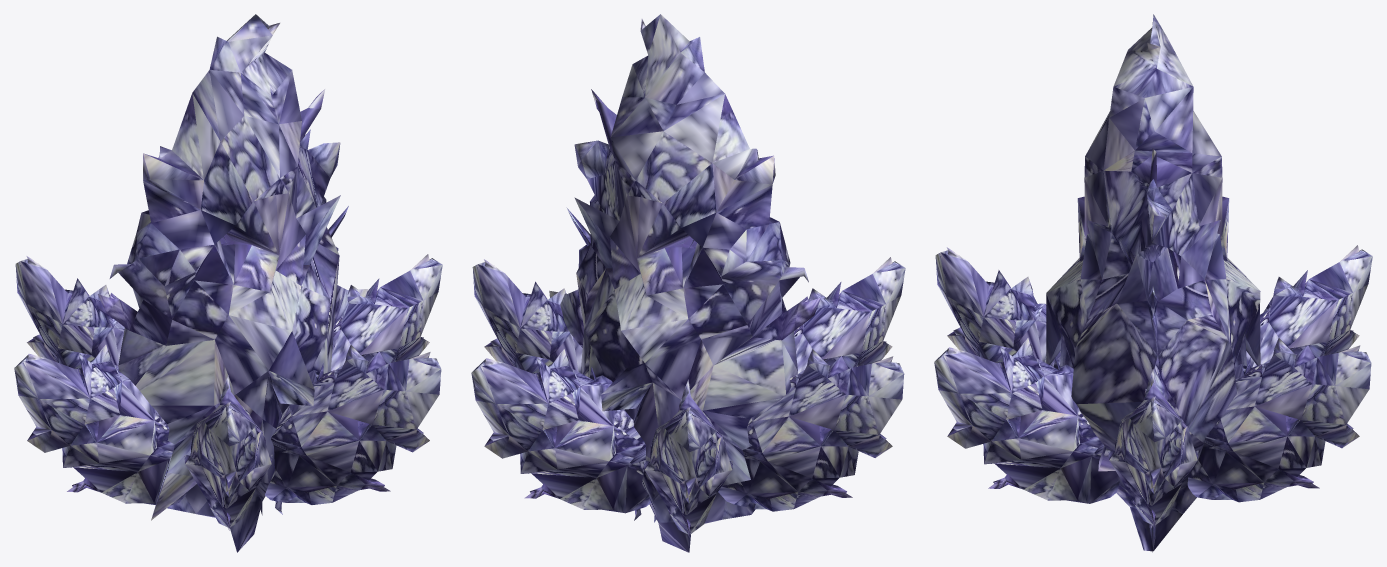
Rendered from moonlit_lotus_bud.glb.
3 views of the same model, side by side, from view 1: azimuth 30°, elevation 25°; view 2: azimuth 150°, elevation 25°; view 3: azimuth 270°, elevation 25° (orthographic). The views are drawn at different scales.
Visible parts, largest first — view 1: Mesh; view 2: Mesh; view 3: Mesh.
Part boxes in pixels (x1,y1,x2,y2): Mesh: [14, 14, 442, 552]; Mesh: [471, 14, 905, 552]; Mesh: [934, 14, 1372, 552].
Size of the model in its own units: 0.739 by 0.8757 by 0.6421.
Materials: 1 (1 with a texture image).
